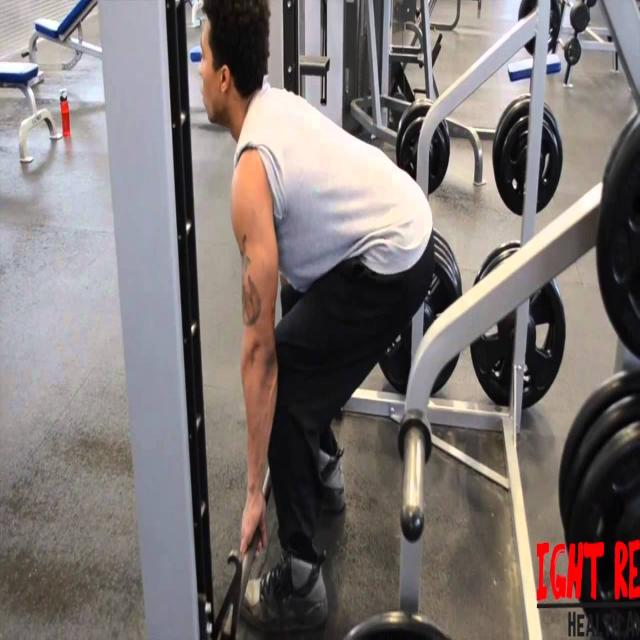deadlift: (186, 0, 446, 640)
